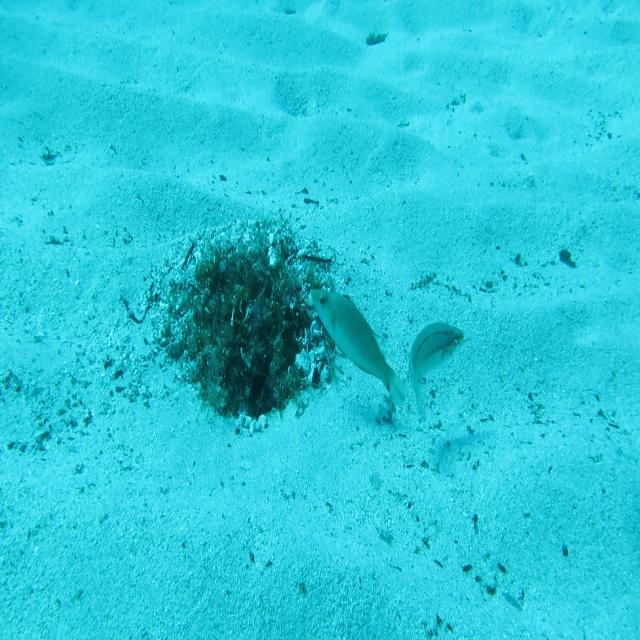BN: (310, 285, 409, 416)
core_nest: (218, 266, 274, 304)
female: (407, 319, 465, 424)
nest: (142, 208, 356, 445)
vegetation: (364, 29, 388, 50)
